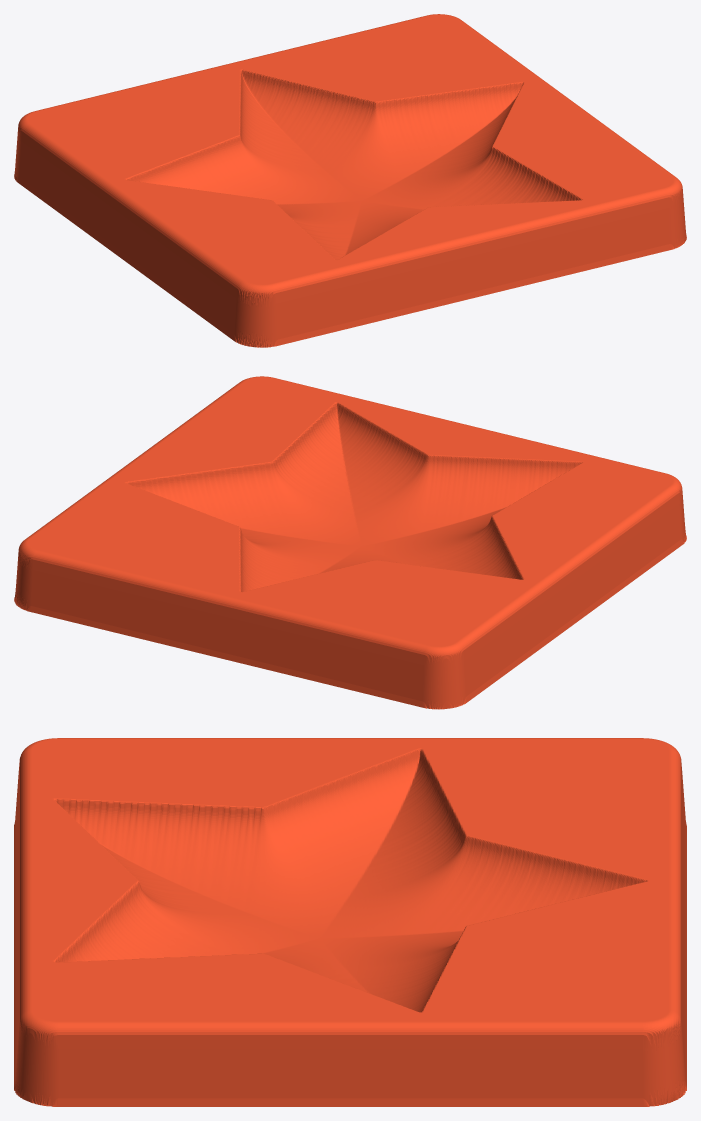
Rendered from mold.glb.
3 renders of one model, top to bottom at view 1: azimuth 30°, elevation 25°; view 2: azimuth 150°, elevation 25°; view 3: azimuth 270°, elevation 25°, orthographic. The views are drawn at different scales.
Visible parts, largest first — view 1: geometry_0; view 2: geometry_0; view 3: geometry_0.
Part boxes in pixels (box(x1,y1,x2,y2)): geometry_0: box(14, 14, 686, 347); geometry_0: box(14, 376, 686, 709); geometry_0: box(14, 738, 686, 1106).
Size of the model in its own units: 0.1435 by 0.0175 by 0.1373.
